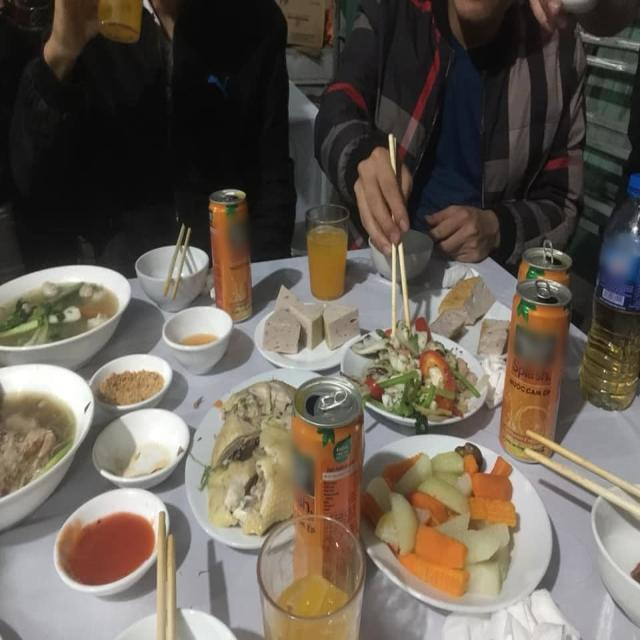cha: (261, 286, 360, 359), (428, 280, 504, 349)
ga luoc: (199, 379, 284, 519)
goi: (357, 328, 471, 418)
la ghim: (368, 448, 518, 597)
nuoc cam ep: (256, 525, 369, 640), (292, 382, 366, 520), (509, 282, 562, 461), (205, 190, 258, 323), (302, 203, 349, 297), (518, 251, 572, 281)
ruou: (571, 163, 640, 411)
